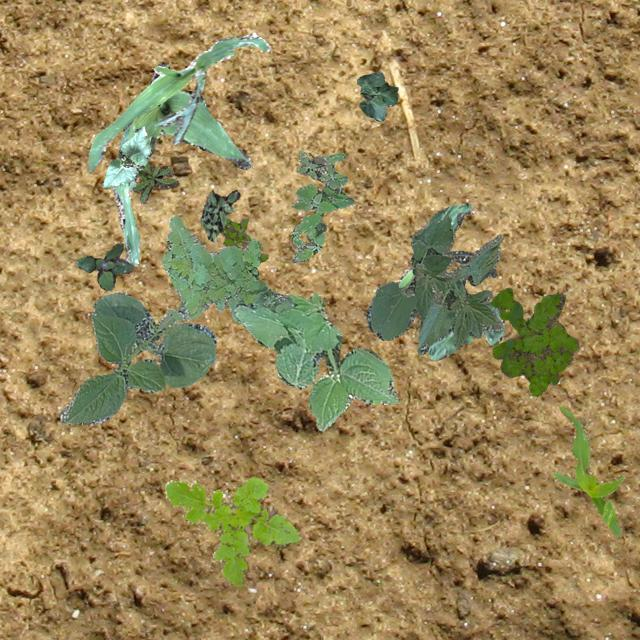crop: (112, 62, 250, 264), (86, 34, 270, 170), (59, 292, 214, 424), (366, 214, 502, 354), (550, 404, 624, 536), (396, 202, 496, 286), (428, 300, 503, 360), (102, 126, 150, 188), (356, 72, 396, 120)
weed: (234, 292, 398, 430), (164, 476, 300, 586), (160, 214, 292, 326), (490, 286, 578, 396), (290, 150, 352, 262), (76, 242, 132, 290), (200, 188, 238, 242), (220, 218, 266, 262), (132, 160, 178, 202)
